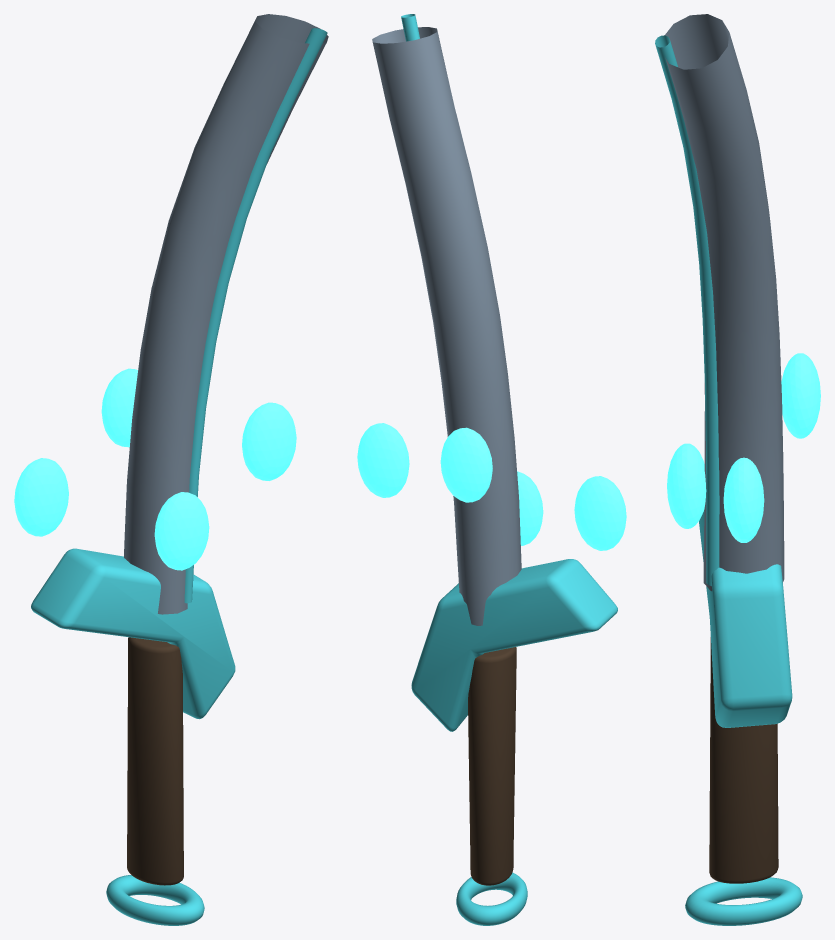
File: sword_v8.glb
3 views of the same model, side by side, from view 1: azimuth 30°, elevation 25°; view 2: azimuth 150°, elevation 25°; view 3: azimuth 270°, elevation 25° (orthographic). The views are drawn at different scales.
Visible parts, largest first — view 1: CURVED_SABRE_BLADE_PRIMARY, KNUCKLE_GUARD_ACCENT, GRIP_SECONDARY, SABRE_EDGE_ACCENT, ASCENDANT_GEM_EMISSIVE.002, ASCENDANT_GEM_EMISSIVE.003, ASCENDANT_GEM_EMISSIVE, POMMEL_ACCENT, ASCENDANT_GEM_EMISSIVE.001; view 2: CURVED_SABRE_BLADE_PRIMARY, KNUCKLE_GUARD_ACCENT, GRIP_SECONDARY, ASCENDANT_GEM_EMISSIVE.002, ASCENDANT_GEM_EMISSIVE.001, ASCENDANT_GEM_EMISSIVE, POMMEL_ACCENT, ASCENDANT_GEM_EMISSIVE.003; view 3: CURVED_SABRE_BLADE_PRIMARY, KNUCKLE_GUARD_ACCENT, GRIP_SECONDARY, SABRE_EDGE_ACCENT, POMMEL_ACCENT, ASCENDANT_GEM_EMISSIVE, ASCENDANT_GEM_EMISSIVE.001, ASCENDANT_GEM_EMISSIVE.003.
Boxes of the visible parts, bbox=[...] form: CURVED_SABRE_BLADE_PRIMARY: bbox=[124, 14, 328, 614]; KNUCKLE_GUARD_ACCENT: bbox=[31, 548, 235, 719]; GRIP_SECONDARY: bbox=[127, 637, 183, 885]; SABRE_EDGE_ACCENT: bbox=[184, 28, 327, 603]; ASCENDANT_GEM_EMISSIVE.002: bbox=[14, 458, 68, 536]; ASCENDANT_GEM_EMISSIVE.003: bbox=[154, 492, 209, 570]; ASCENDANT_GEM_EMISSIVE: bbox=[242, 402, 296, 480]; POMMEL_ACCENT: bbox=[106, 875, 204, 925]; ASCENDANT_GEM_EMISSIVE.001: bbox=[101, 368, 137, 447]; CURVED_SABRE_BLADE_PRIMARY: bbox=[372, 27, 521, 625]; KNUCKLE_GUARD_ACCENT: bbox=[411, 559, 617, 731]; GRIP_SECONDARY: bbox=[468, 647, 516, 885]; ASCENDANT_GEM_EMISSIVE.002: bbox=[574, 476, 626, 550]; ASCENDANT_GEM_EMISSIVE.001: bbox=[440, 427, 492, 502]; ASCENDANT_GEM_EMISSIVE: bbox=[357, 423, 409, 497]; POMMEL_ACCENT: bbox=[456, 872, 527, 925]; ASCENDANT_GEM_EMISSIVE.003: bbox=[517, 471, 543, 545]; CURVED_SABRE_BLADE_PRIMARY: bbox=[665, 14, 784, 591]; KNUCKLE_GUARD_ACCENT: bbox=[699, 510, 792, 727]; GRIP_SECONDARY: bbox=[709, 637, 778, 883]; SABRE_EDGE_ACCENT: bbox=[655, 35, 719, 586]; POMMEL_ACCENT: bbox=[685, 877, 802, 925]; ASCENDANT_GEM_EMISSIVE: bbox=[723, 457, 764, 542]; ASCENDANT_GEM_EMISSIVE.001: bbox=[781, 353, 820, 438]; ASCENDANT_GEM_EMISSIVE.003: bbox=[667, 443, 706, 528].
Size of the model in its own units: 1.55 by 4.58 by 0.7325.
